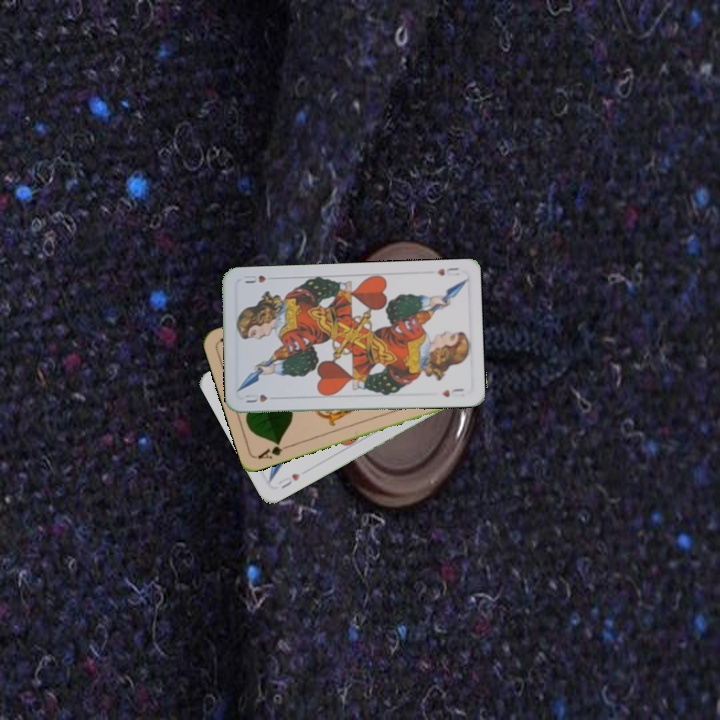GA: (254, 438, 294, 462)
HU: (274, 469, 303, 491), (433, 263, 461, 279), (241, 390, 270, 405)
